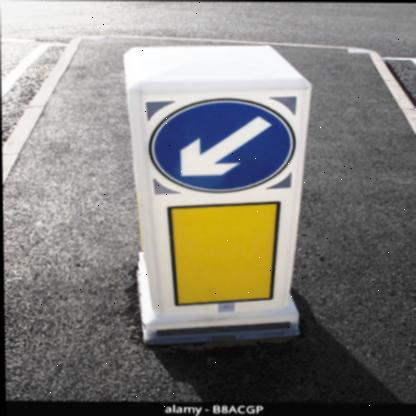Keep left: (146, 94, 297, 196)
